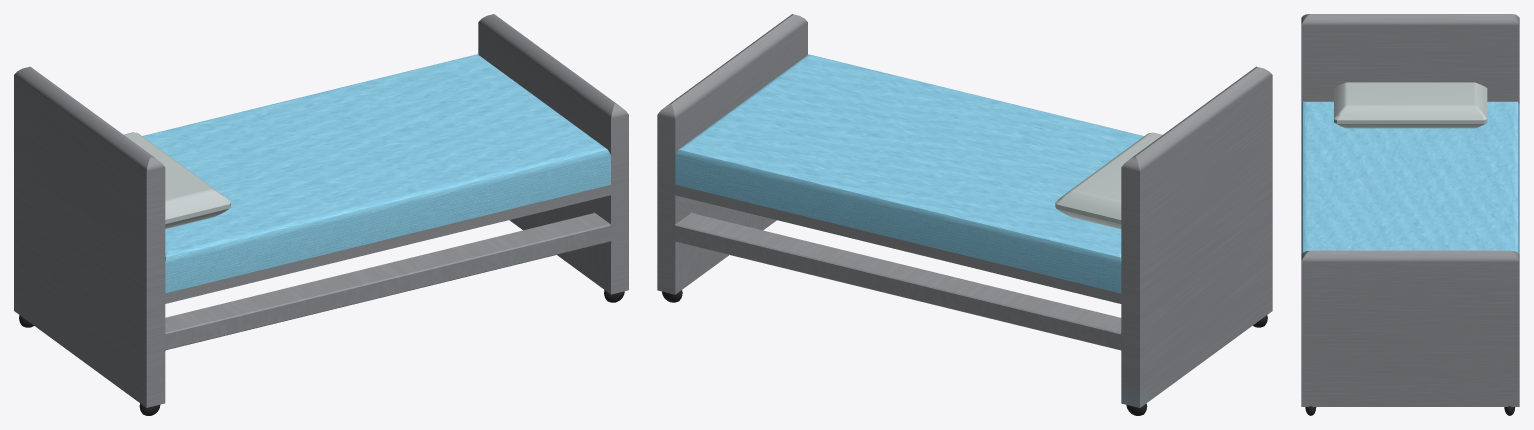
The model's file is Bed.fbx.
3 views of the same model, side by side, from view 1: azimuth 30°, elevation 25°; view 2: azimuth 150°, elevation 25°; view 3: azimuth 270°, elevation 25° (orthographic). The views are drawn at different scales.
Visible parts, largest first — view 1: Bed, Pillow; view 2: Bed, Pillow; view 3: Bed, Pillow.
Part boxes in pixels (left/top/right/bottom): Bed: left=14, top=14, right=628, bottom=407; Pillow: left=124, top=132, right=230, bottom=228; Bed: left=657, top=14, right=1272, bottom=407; Pillow: left=1055, top=132, right=1162, bottom=229; Bed: left=1301, top=14, right=1519, bottom=406; Pillow: left=1334, top=82, right=1487, bottom=128.
Bounding box in the file's own units: 5.11 × 2.62 × 2.42.
3 materials, 1 textured.
